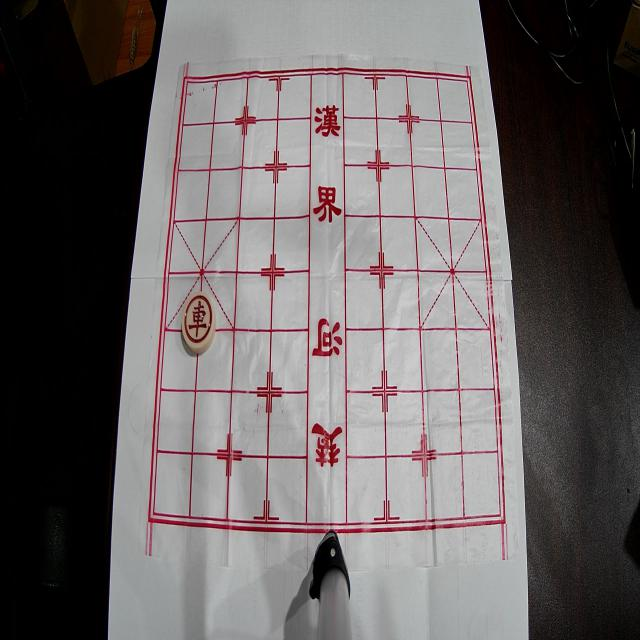red-chariot: (182, 292, 216, 354)
